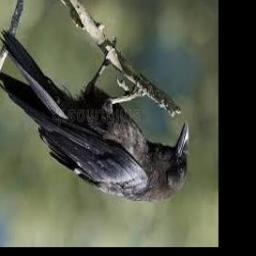Crow: (0, 27, 189, 205)
